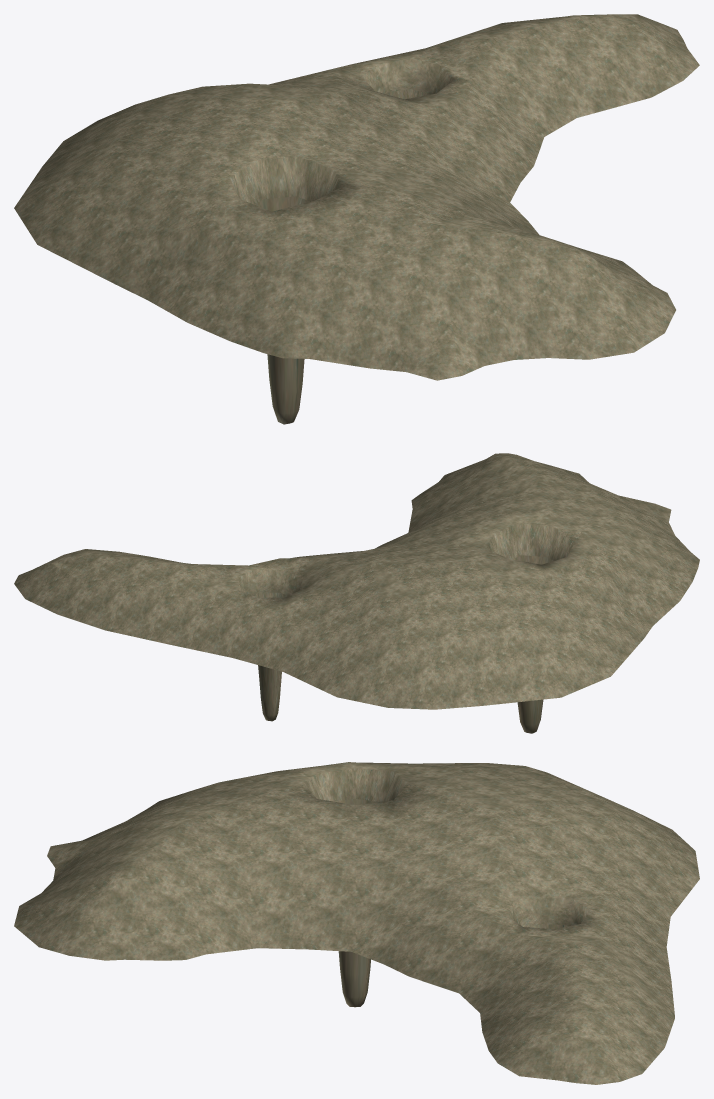
The model's file is OVERHILL_A_01_OBJECT352.fbx.
3 views of the same model, one above another, from view 1: azimuth 30°, elevation 25°; view 2: azimuth 150°, elevation 25°; view 3: azimuth 270°, elevation 25° (orthographic). The views are drawn at different scales.
Visible parts, largest first — view 1: OVERHILL_A_01_OBJECT352; view 2: OVERHILL_A_01_OBJECT352; view 3: OVERHILL_A_01_OBJECT352.
Part boxes in pixels (x1,y1,x2,y2): OVERHILL_A_01_OBJECT352: (14, 14, 699, 424); OVERHILL_A_01_OBJECT352: (14, 453, 699, 733); OVERHILL_A_01_OBJECT352: (14, 762, 699, 1084).
Bounding box in the file's own units: 282933 × 96917 × 261768.
1 material, 1 textured.
